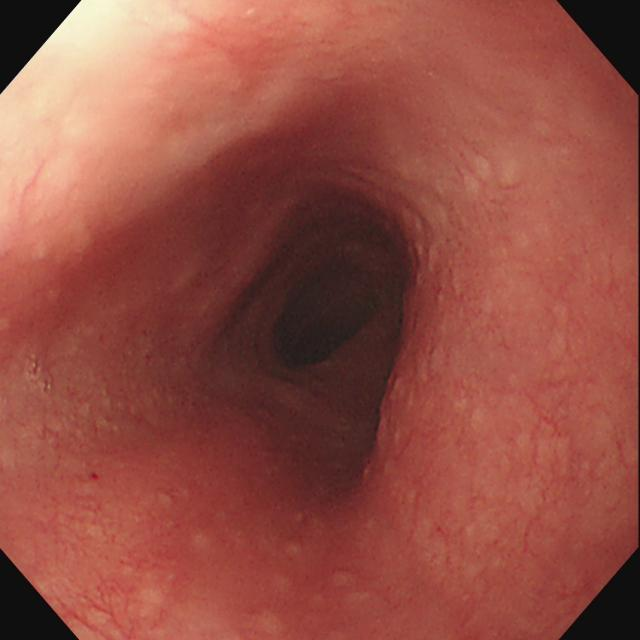E: (273, 271, 376, 366)
